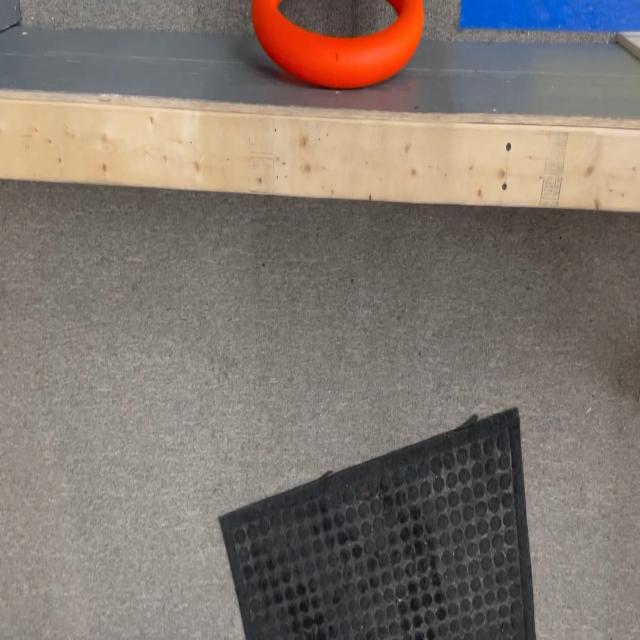note: (244, 0, 426, 84)
